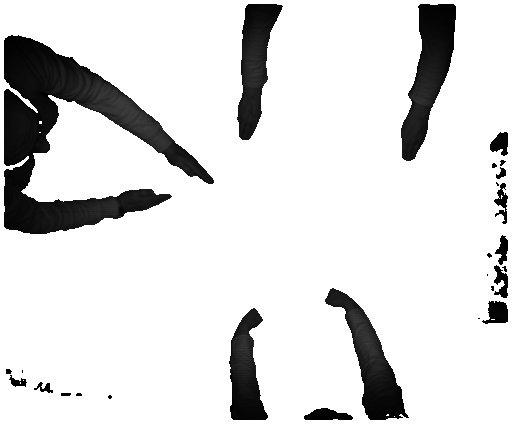fist: (320, 288, 352, 308), (241, 304, 263, 333)
hand: (400, 114, 431, 167), (233, 96, 263, 143)
spine: (169, 141, 215, 183), (120, 189, 175, 223)
